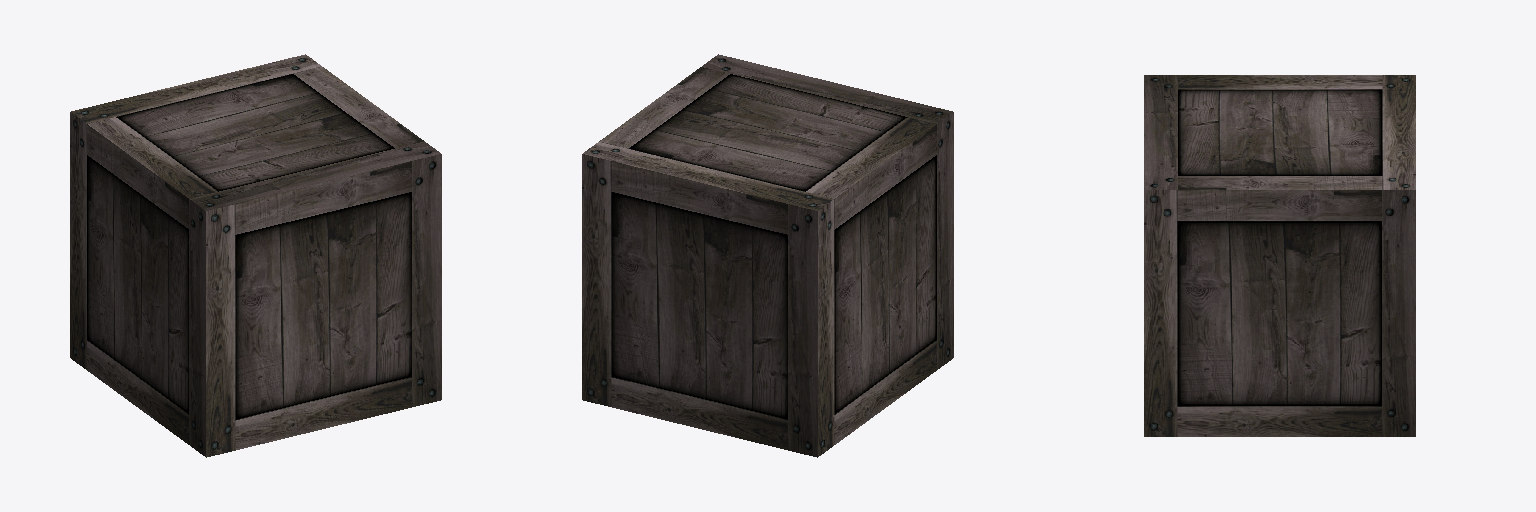
3 renders of one model, left to right at view 1: azimuth 30°, elevation 25°; view 2: azimuth 150°, elevation 25°; view 3: azimuth 270°, elevation 25°, orthographic.
Visible parts, largest first — view 1: Cube_Cube; view 2: Cube_Cube; view 3: Cube_Cube.
Part boxes in pixels (x1,y1,x2,y2): Cube_Cube: (70,54,441,457); Cube_Cube: (582,54,953,457); Cube_Cube: (1144,75,1415,436).
Bounding box in the file's own units: 2 × 2 × 2.
1 materials, 1 textured.